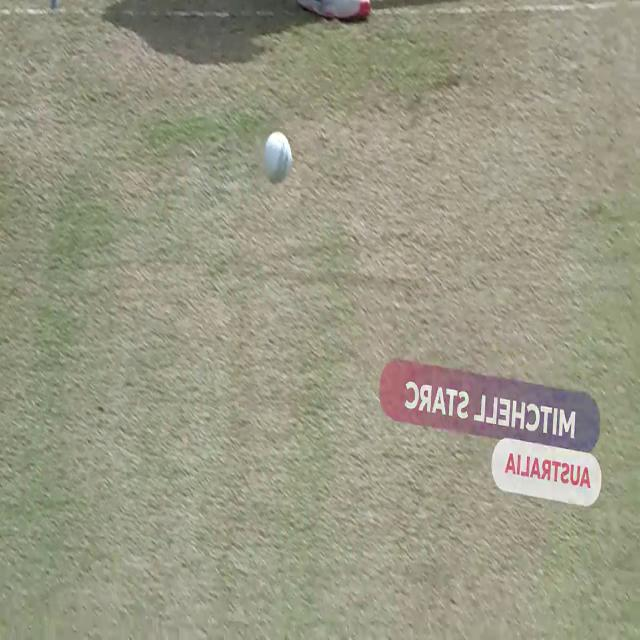ball: (263, 129, 293, 187)
